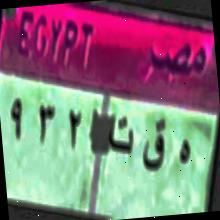2: (64, 99, 86, 157)
3: (34, 96, 62, 156)
9: (7, 91, 30, 154)
haa: (174, 122, 194, 184)
qaaf: (138, 115, 172, 184)
taa: (106, 112, 140, 160)
